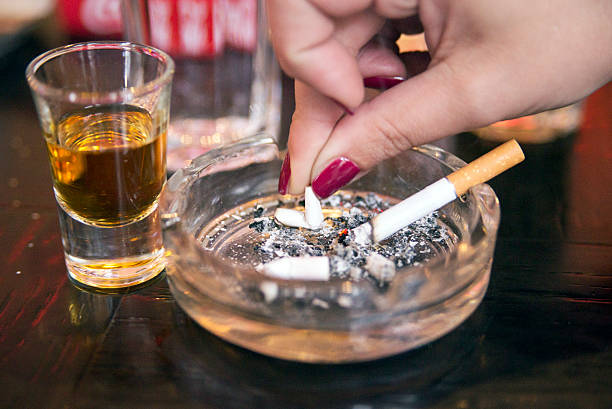alcohol: (25, 42, 176, 288)
cigarette: (350, 137, 526, 248), (273, 184, 325, 233), (259, 256, 352, 282)
